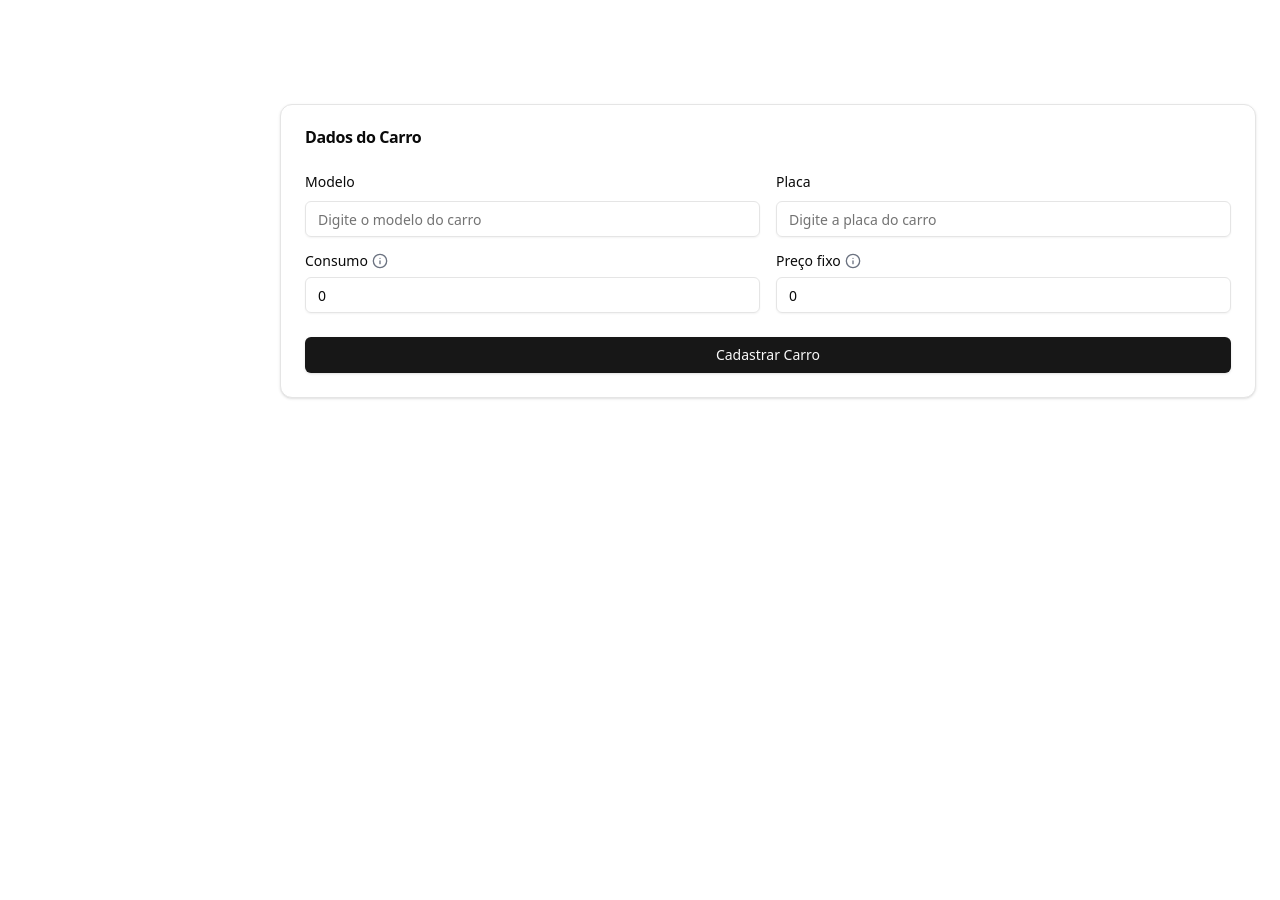
Test: CarRegisterForm › envia o formulário com sucesso
This screenshot has width=1280, height=900.
In the field labelled "Modelo": point(532, 219) [305,201,760,237], type "Fusca"
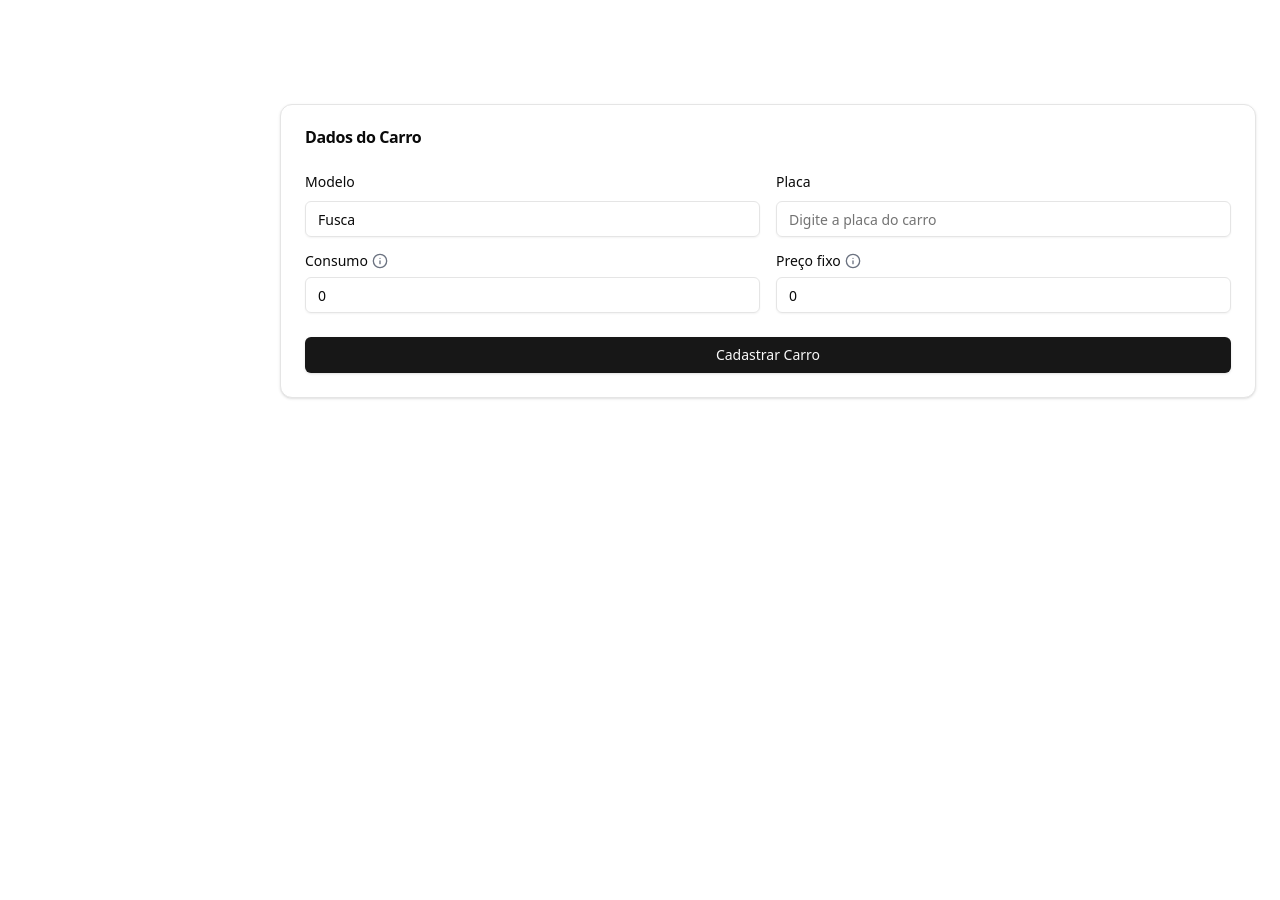
In the field labelled "Placa": point(1004, 219) [776,201,1231,237], type "ABC1234"
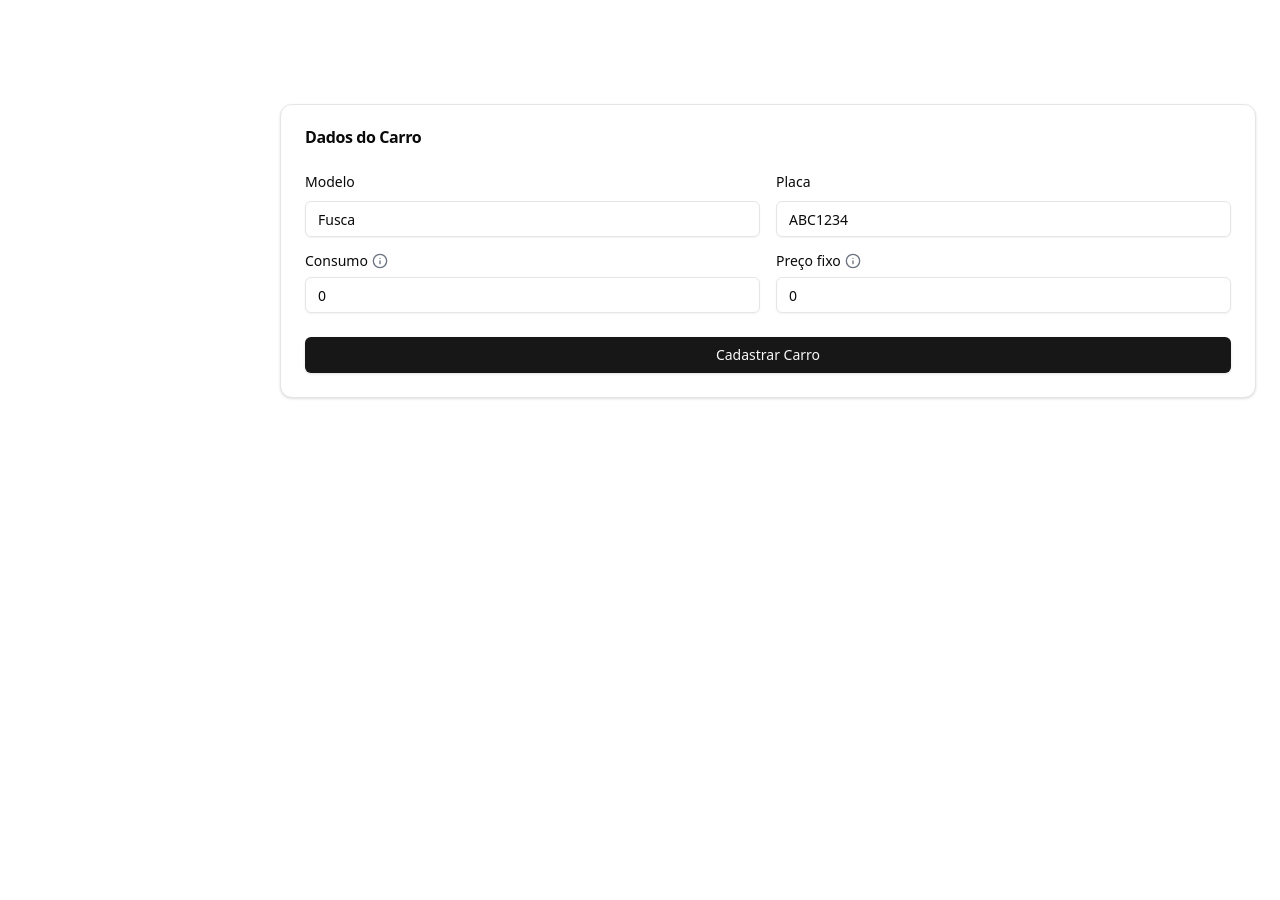
Replace the text in the number field labelled "Consumo" with "8.5": point(532, 295) [305,277,760,313]
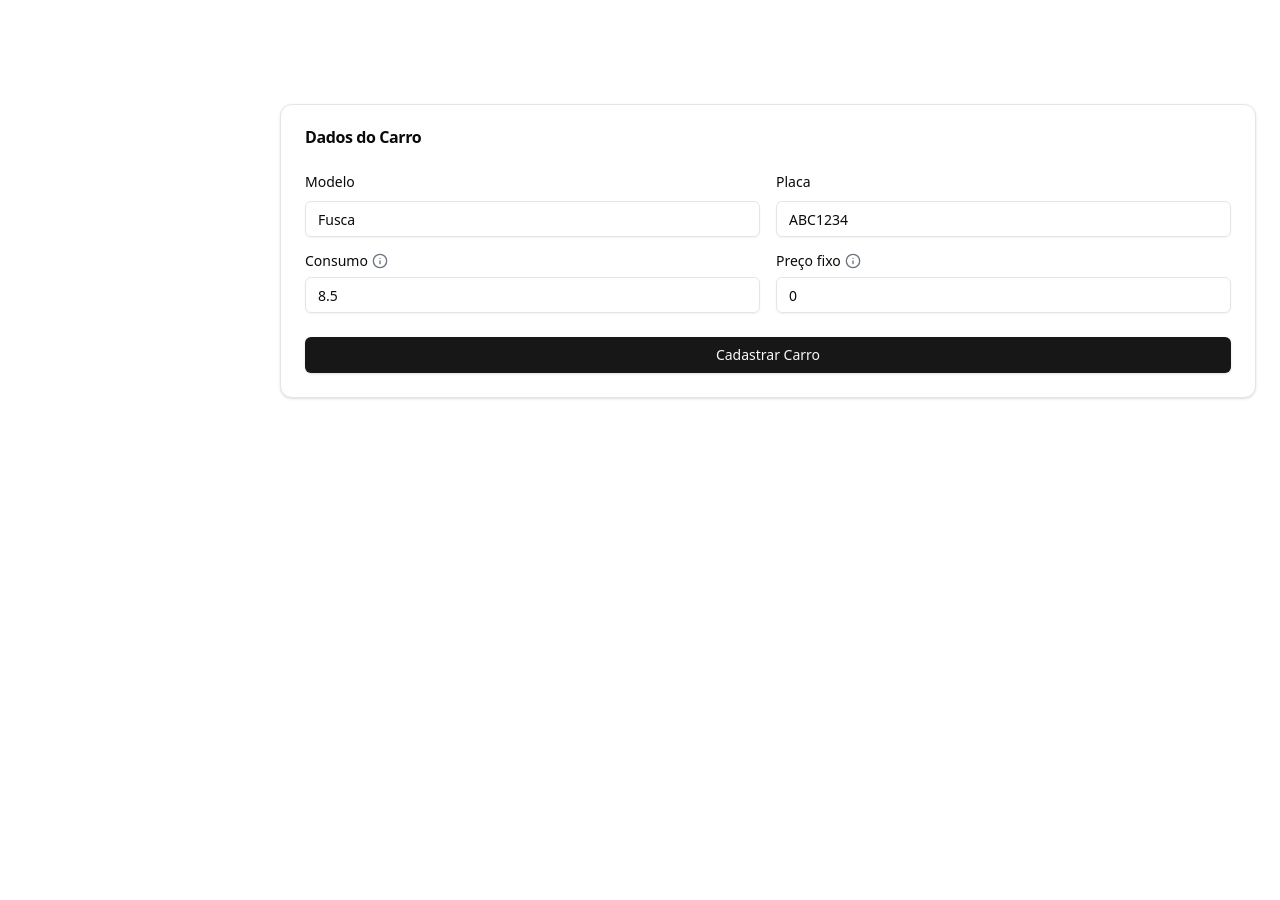
Replace the text in the number field labelled "Preço fixo" with "500": point(1004, 295) [776,277,1231,313]
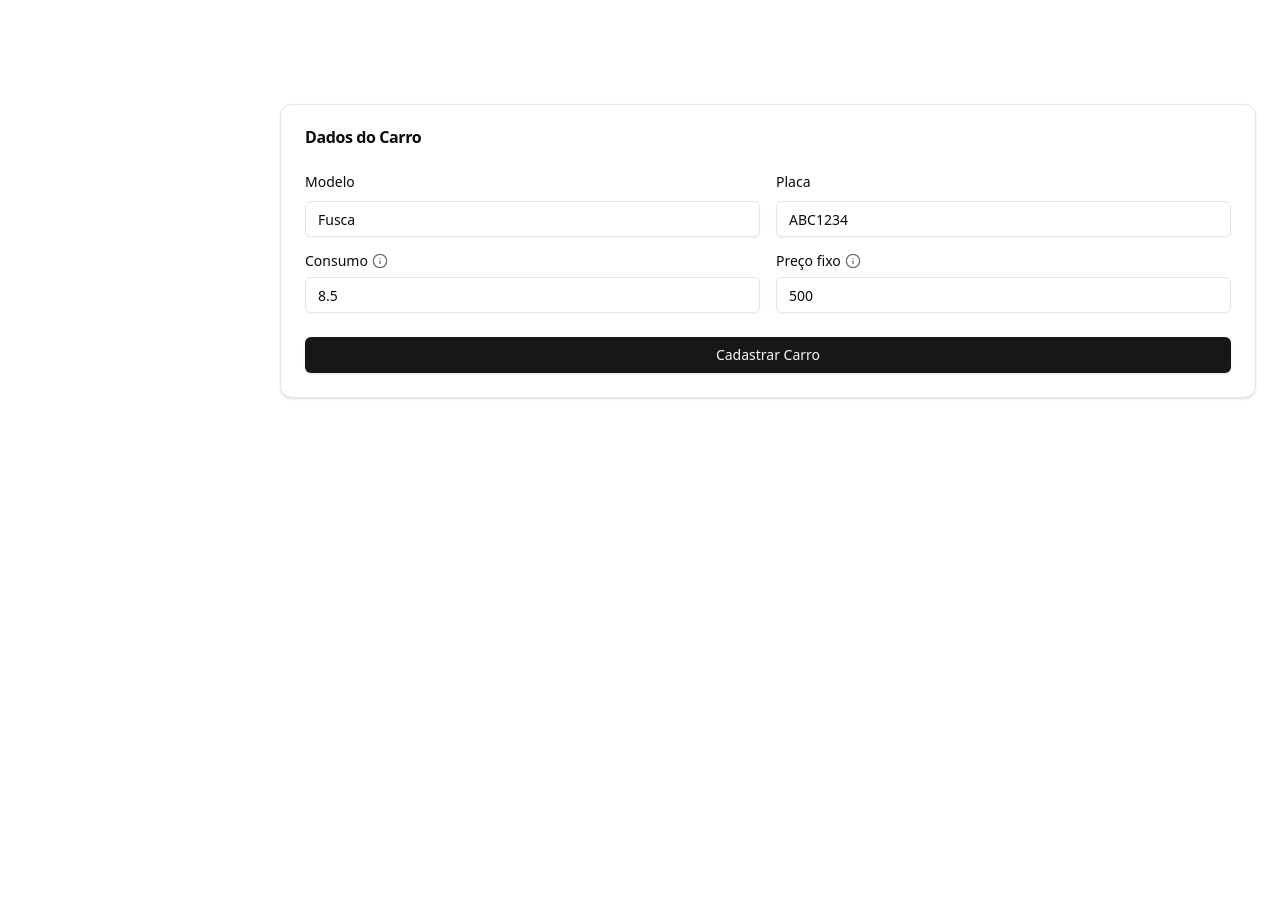
Click the button "Cadastrar Carro": point(768, 355) [305,337,1231,373]
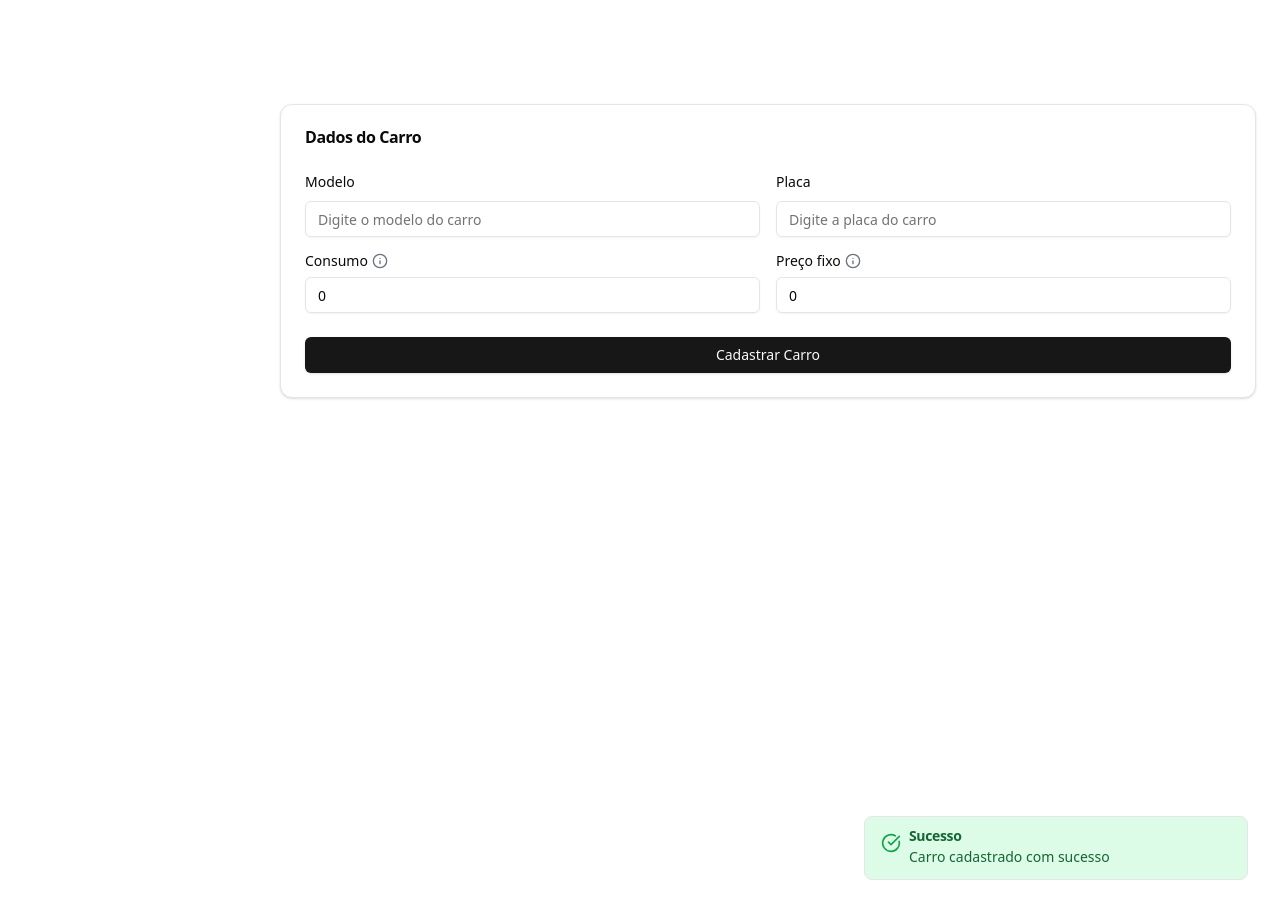
Check: the text "Carro cadastrado com sucesso" is shown, box [909,847,1110,866]
